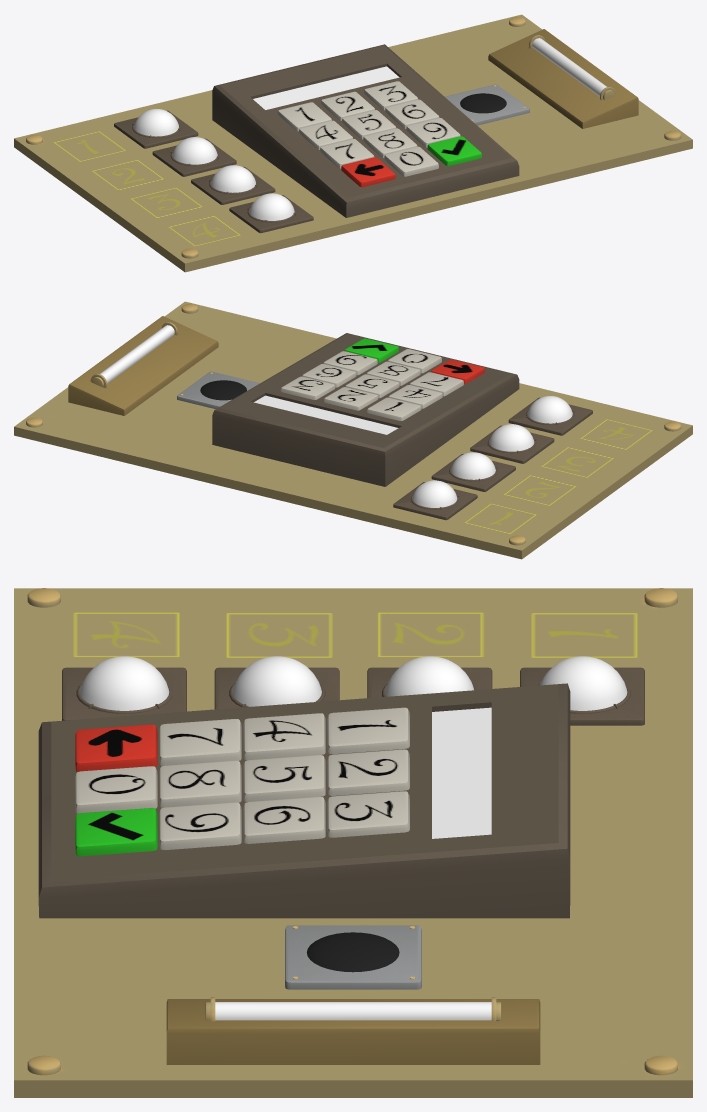
Rendered from Mos.fbx.
The picture shows the model from 3 angles, top to bottom: view 1: azimuth 30°, elevation 25°; view 2: azimuth 150°, elevation 25°; view 3: azimuth 270°, elevation 25°; orthographic projection. The views are drawn at different scales.
Parts seen in each view (by area): view 1: Mos_base_001, Mos_keypad, Mos_keypad_light, Mos_base_light, Mos_Keypad_button_check, Mos_Keypad_button_back001, Mos_Keypad_button_000, Mos_button_004, Mos_button_003, Mos_button_001, Mos_button_002, Mos_Keypad_button_007 (+8 smaller); view 2: Mos_base_001, Mos_keypad, Mos_keypad_light, Mos_base_light, Mos_button_003, Mos_button_001, Mos_button_004, Mos_button_002, Mos_Keypad_button_001, Mos_Keypad_button_002, Mos_Keypad_button_003, Mos_Keypad_button_check (+8 smaller); view 3: Mos_base_001, Mos_keypad, Mos_keypad_light, Mos_base_light, Mos_button_004, Mos_Keypad_button_check, Mos_Keypad_button_009, Mos_Keypad_button_006, Mos_button_003, Mos_Keypad_button_back001, Mos_Keypad_button_008, Mos_Keypad_button_000 (+8 smaller).
Part boxes in pixels (x1,y1,x2,y2): Mos_base_001: [14, 14, 692, 272]; Mos_keypad: [212, 44, 519, 217]; Mos_keypad_light: [253, 66, 399, 109]; Mos_base_light: [532, 38, 606, 96]; Mos_Keypad_button_check: [427, 136, 481, 166]; Mos_Keypad_button_back001: [341, 157, 395, 187]; Mos_Keypad_button_000: [384, 146, 438, 176]; Mos_button_004: [249, 193, 294, 220]; Mos_button_003: [211, 165, 255, 192]; Mos_button_001: [134, 109, 178, 136]; Mos_button_002: [172, 137, 217, 164]; Mos_Keypad_button_007: [320, 139, 374, 168]; Mos_base_001: [14, 301, 692, 559]; Mos_keypad: [212, 333, 519, 486]; Mos_keypad_light: [254, 395, 398, 434]; Mos_base_light: [100, 325, 174, 383]; Mos_button_003: [489, 424, 534, 451]; Mos_button_001: [412, 480, 457, 507]; Mos_button_004: [527, 396, 572, 423]; Mos_button_002: [451, 452, 495, 479]; Mos_Keypad_button_001: [367, 397, 421, 420]; Mos_Keypad_button_002: [324, 387, 378, 410]; Mos_Keypad_button_003: [280, 376, 335, 399]; Mos_Keypad_button_check: [344, 338, 398, 362]; Mos_base_001: [14, 588, 692, 1097]; Mos_keypad: [38, 683, 570, 918]; Mos_keypad_light: [432, 707, 491, 838]; Mos_base_light: [215, 1002, 491, 1020]; Mos_button_004: [80, 656, 169, 710]; Mos_Keypad_button_check: [75, 808, 157, 856]; Mos_Keypad_button_009: [159, 802, 241, 850]; Mos_Keypad_button_006: [243, 796, 325, 843]; Mos_button_003: [232, 656, 321, 706]; Mos_Keypad_button_back001: [75, 724, 157, 771]; Mos_Keypad_button_008: [159, 760, 241, 807]; Mos_Keypad_button_000: [75, 766, 157, 813].
Bounding box in the file's own units: 120 × 10.07 × 70.
